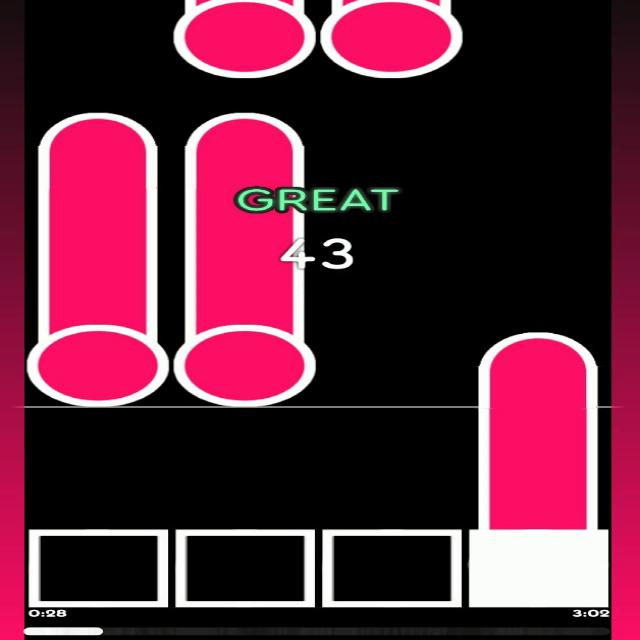end_hold: (183, 102, 314, 149), (473, 327, 606, 368), (36, 108, 159, 148)
start_hold: (25, 309, 169, 411), (174, 308, 318, 408), (175, 0, 317, 79), (320, 0, 463, 78)
